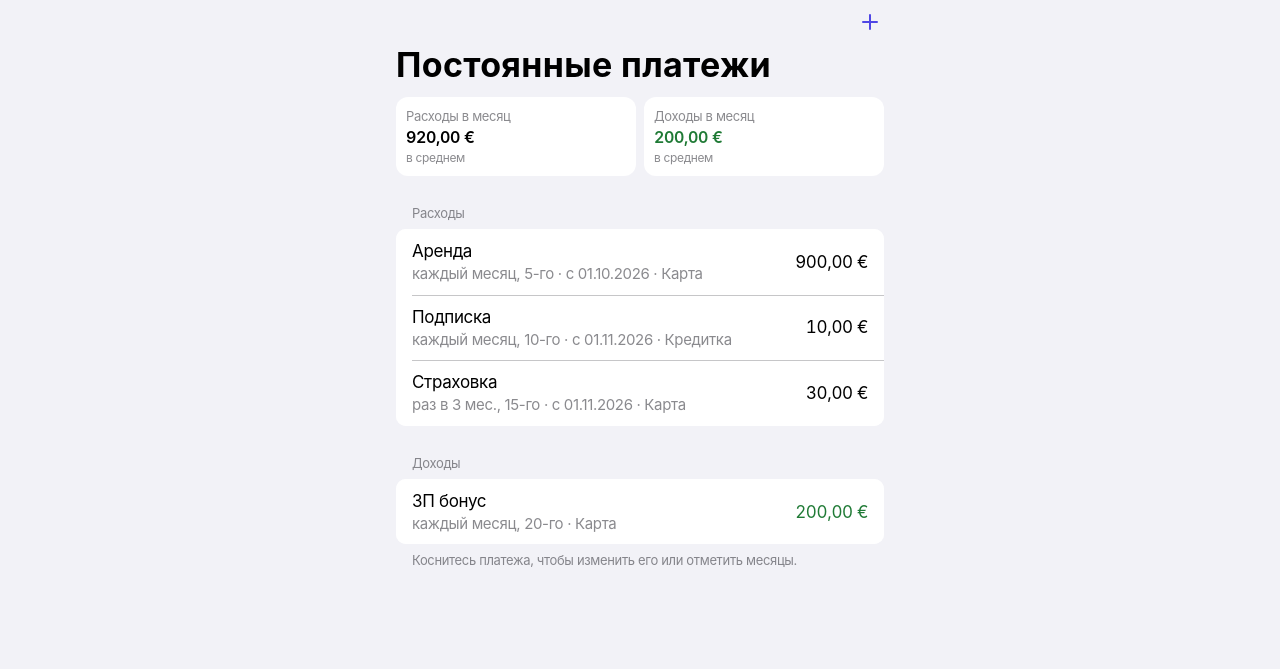
RecurringForm — new payment › an end before the start is an error
This screenshot has width=1280, height=669.
Click the button named "Новый постоянный платёж": [870, 22] box [848,0,892,44]
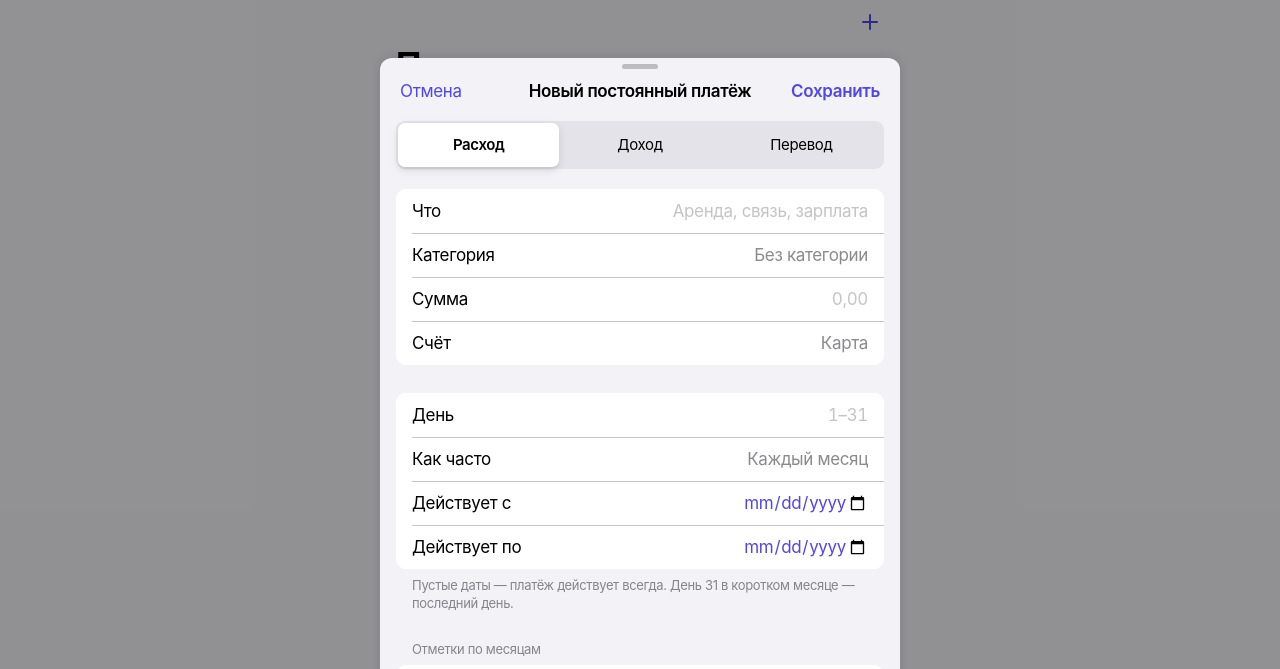
In the field labelled "Что": [660, 211] box [453,189,868,233], type "Спорт"
In the field labelled "Сумма": [674, 299] box [480,277,868,321], type "40"
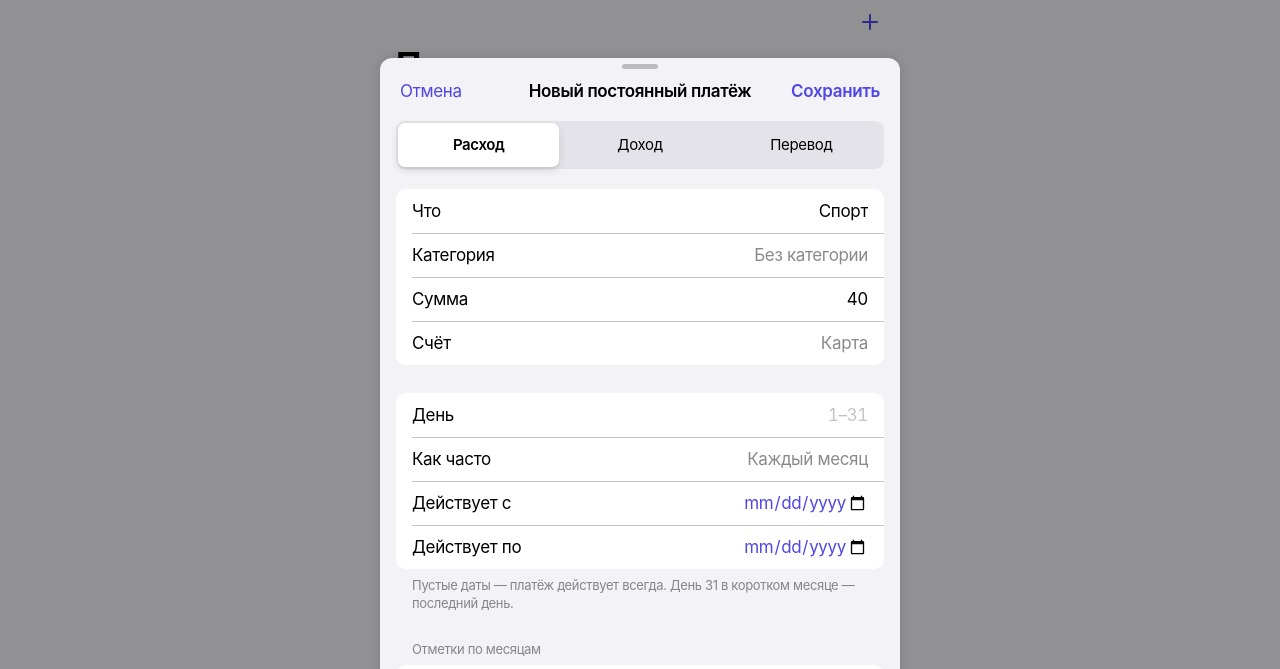
In the field labelled "День": [667, 415] box [466,393,868,437], type "3"
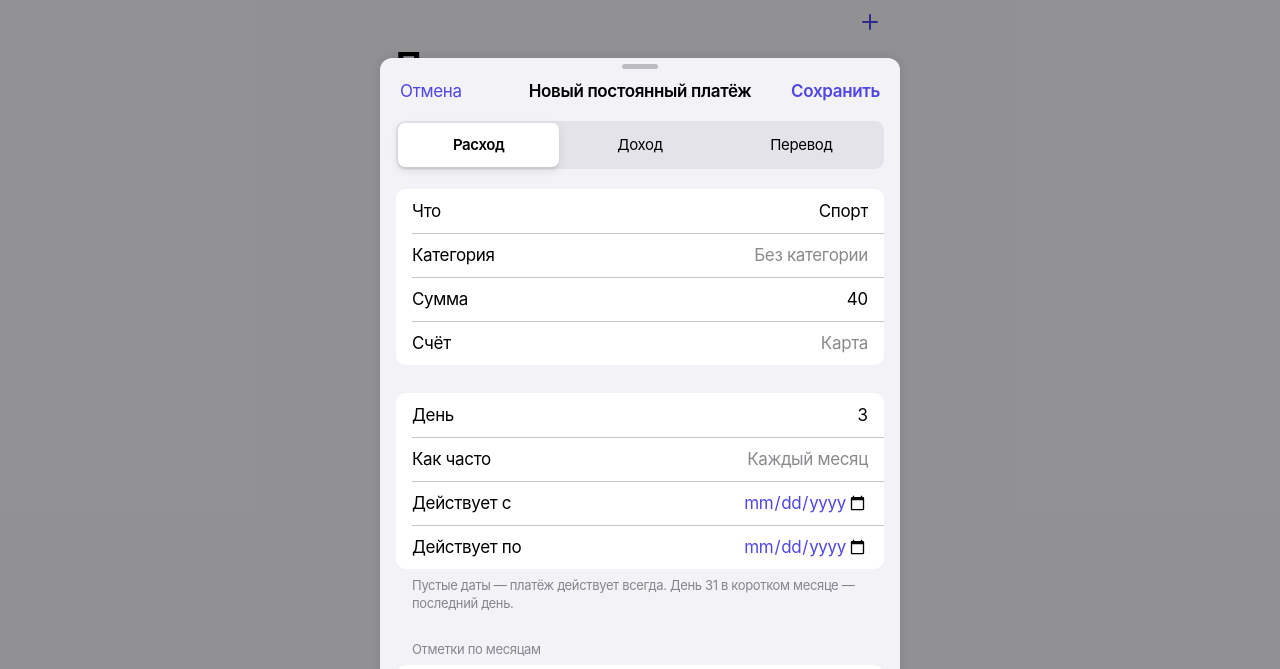
In the date field labelled "Действует с": [696, 503] box [523,481,868,525], type "2026-12-01"
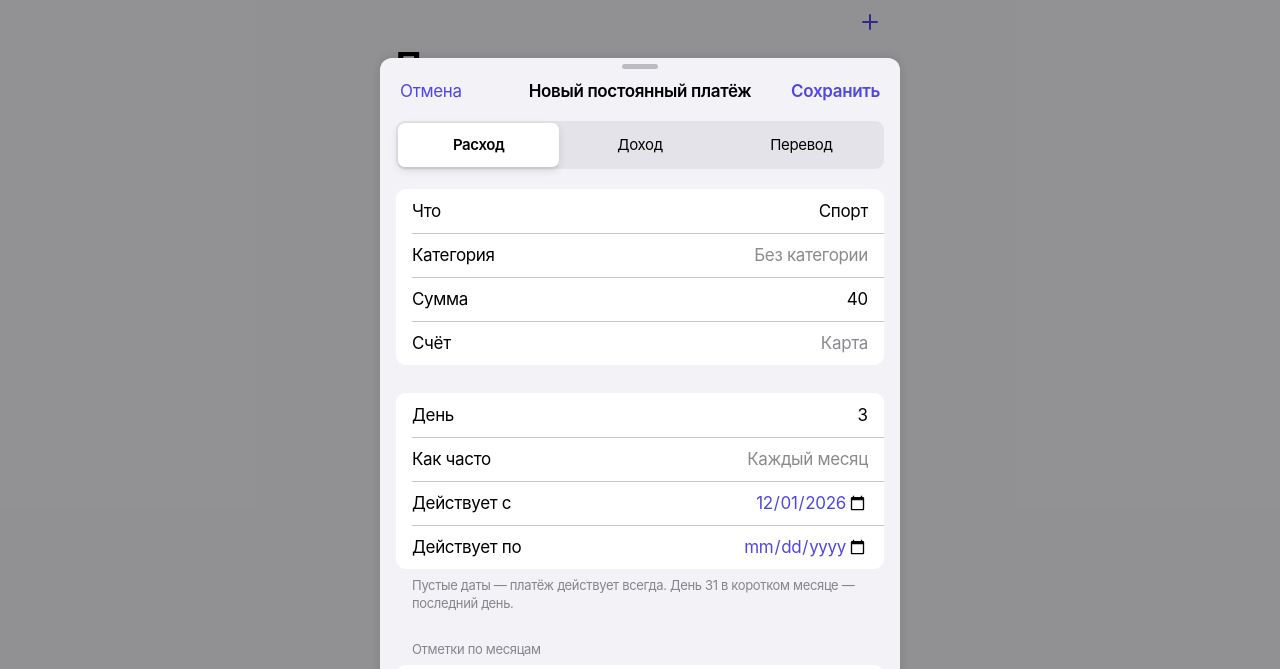
In the date field labelled "Действует по": [701, 547] box [533,525,868,569], type "2026-11-30"
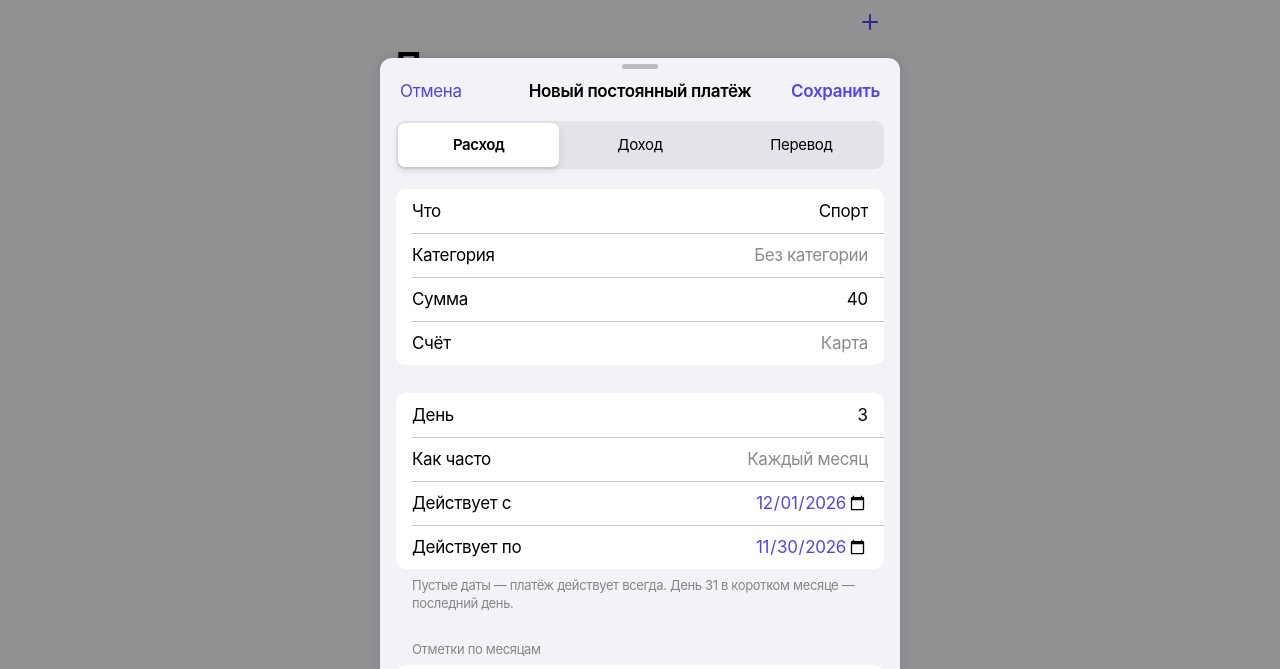
Click the button "Сохранить": [836, 91] box [779,69,892,113]
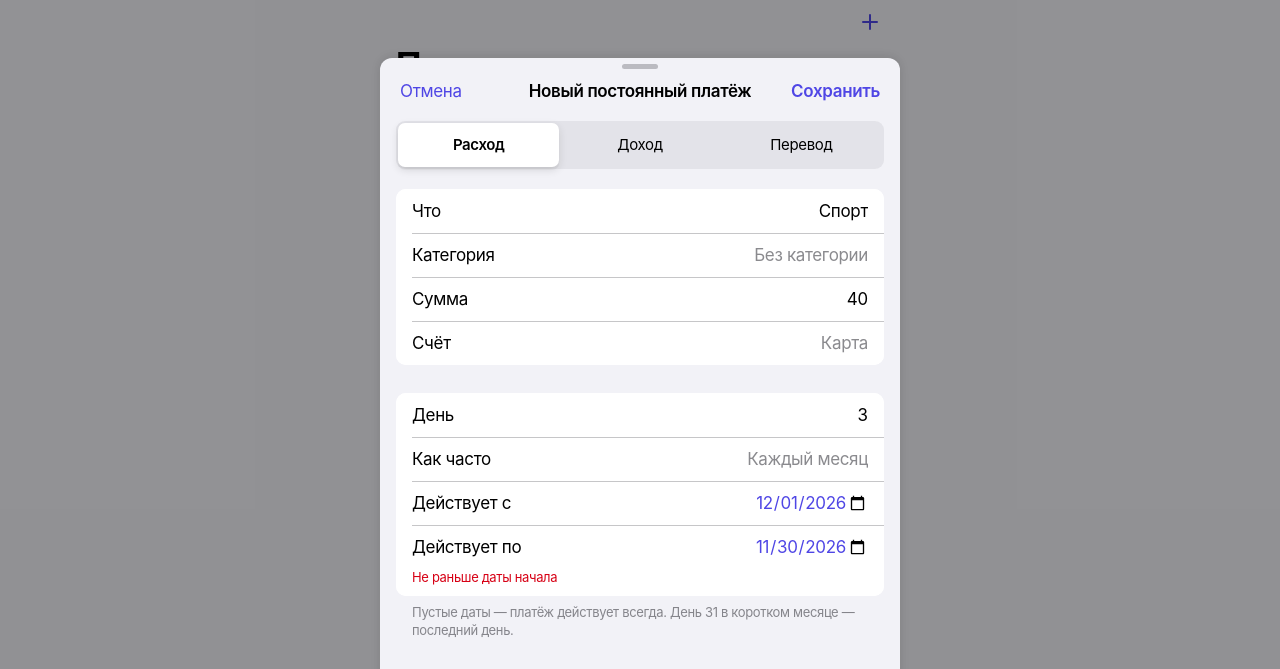
expect the text "Не раньше даты начала" is shown: met, box [412,569,557,585]
